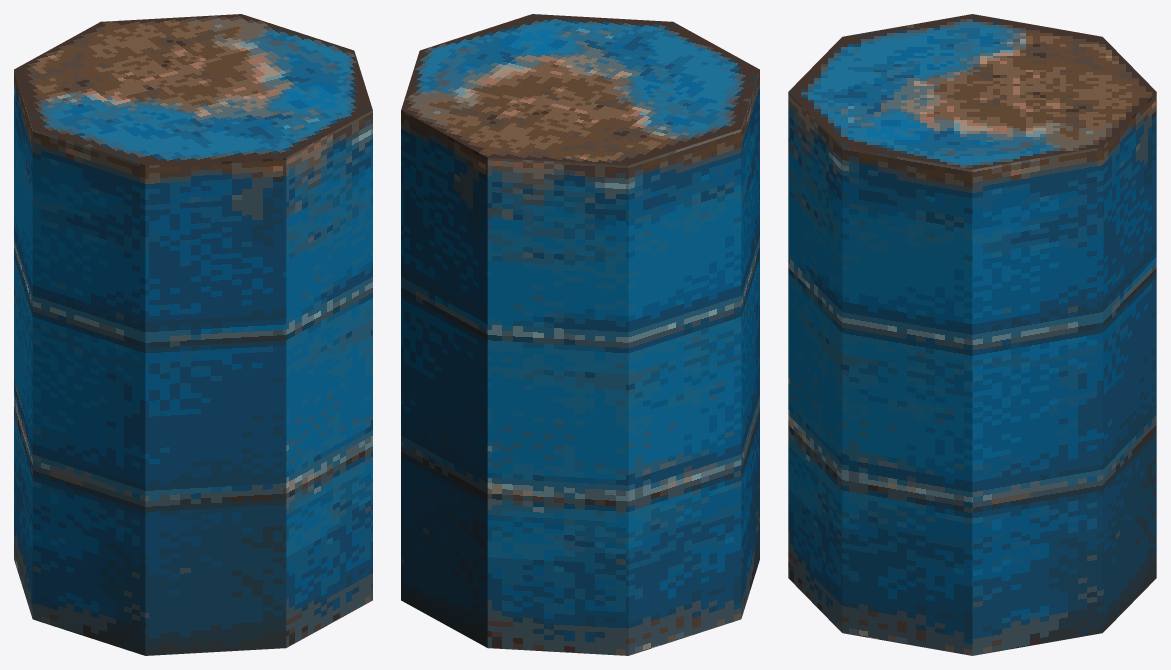
Rendered from barrel.glb.
The picture shows the model from 3 angles, left to right: view 1: azimuth 30°, elevation 25°; view 2: azimuth 150°, elevation 25°; view 3: azimuth 270°, elevation 25°; orthographic projection.
Parts seen in each view (by area): view 1: Barrel; view 2: Barrel; view 3: Barrel.
Boxes of the visible parts, box(x1,y1,x2,y2) form: Barrel: box(14, 14, 372, 655); Barrel: box(401, 14, 759, 655); Barrel: box(788, 14, 1156, 655).
Bounding box in the file's own units: 0.5842 × 0.8509 × 0.5842.
1 material, 1 textured.
